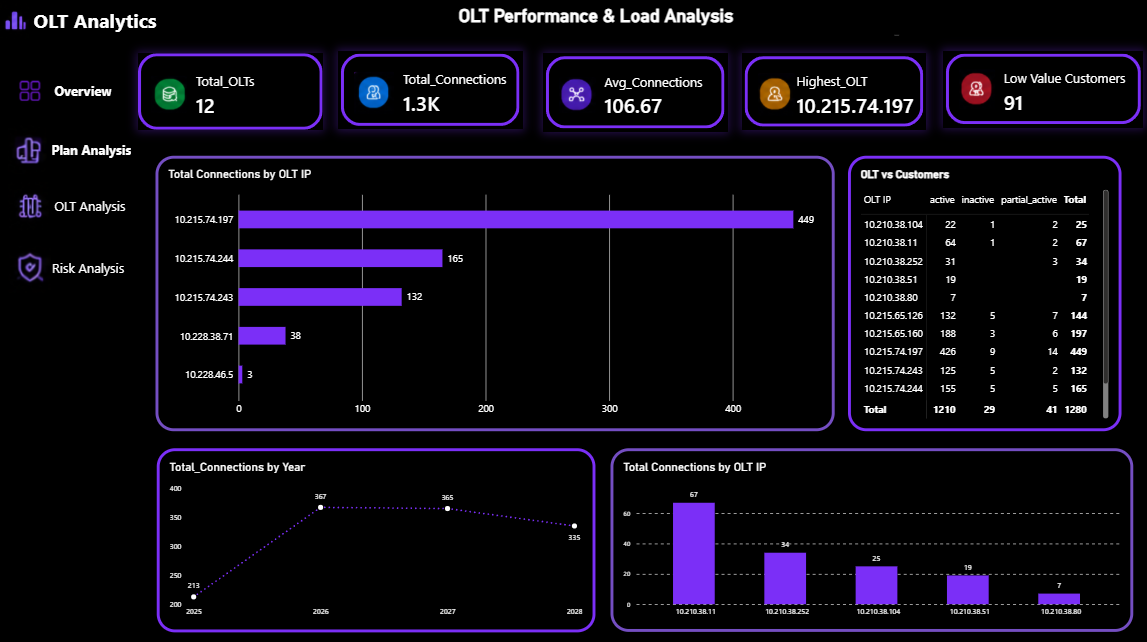

The page's visual inventory and layout, read from the dashboard file:
{"tool":"powerbi","page":{"name":"OLT Analysis ","canvas":[1920,1080],"ordinal":2},"visuals":[{"type":"shape","box":[0,0,269.4,1079.7],"z":0},{"type":"image","box":[8.6,0,51.3,74.8],"z":1000},{"type":"actionButton","box":[0,106.9,207.4,98.4],"z":2000},{"type":"actionButton","box":[0,201,239.5,100.5],"z":3000},{"type":"actionButton","box":[15,301.5,290.2,86.4],"z":4000},{"type":"actionButton","box":[17.1,406.2,211.7,81.2],"z":5000},{"type":"cardVisual","fields":{"Data":["OLT.Low Value Customers"]},"box":[1563.4,88.3,331.4,126.1],"z":6000},{"type":"cardVisual","fields":{"Data":["OLT.Total_OLTs"]},"box":[239.5,91.9,304.4,126.1],"z":7000},{"type":"cardVisual","fields":{"Data":["OLT.Total_Connections"]},"box":[567.4,88.3,304.4,129.7],"z":8000},{"type":"cardVisual","fields":{"Data":["OLT.Avg_Connections"]},"box":[906,91.9,304.4,129.7],"z":9000},{"type":"cardVisual","fields":{"Data":["OLT.Highest_OLT"]},"box":[1233.8,91.9,304.4,126.1],"z":10000},{"type":"clusteredBarChart","fields":{"Category":["OLT.OLT IP"],"Y":["OLT.Total Connections"]},"box":[268.4,261.2,1118.5,453.9],"z":11000},{"type":"pivotTable","title":"OLT vs Customers","fields":{"Columns":["OLT.status"],"Rows":["OLT.OLT IP"],"Values":["OLT.Total Connections"]},"box":[1408.5,261.2,450.3,453.9],"z":12000},{"type":"lineChart","fields":{"Category":["OLT.activation date.Variation.Date Hierarchy.Year","OLT.activation date.Variation.Date Hierarchy.Quarter","OLT.activation date.Variation.Date Hierarchy.Month","OLT.activation date.Variation.Date Hierarchy.Day"],"Y":["OLT.Total_Connections"]},"box":[270.2,742.1,722,303],"z":13000},{"type":"columnChart","fields":{"Category":["OLT.OLT IP"],"Y":["OLT.Total Connections"]},"box":[1015.8,742.1,860.9,302.6],"z":14000},{"type":"textbox","title":"OLT Performance & Load Analysis","box":[493.9,12.8,998.5,51.3],"z":15000}]}

Visuals, with their boxes in screenshot pixels (x1, y1, x2, y2):
shape: {"left": 0, "top": 0, "right": 155, "bottom": 641}
image: {"left": 0, "top": 0, "right": 27, "bottom": 40}
actionButton: {"left": 0, "top": 59, "right": 117, "bottom": 119}
actionButton: {"left": 0, "top": 116, "right": 137, "bottom": 177}
actionButton: {"left": 0, "top": 177, "right": 177, "bottom": 230}
actionButton: {"left": 1, "top": 241, "right": 130, "bottom": 290}
cardVisual - OLT.Low Value Customers: {"left": 942, "top": 48, "right": 1143, "bottom": 124}
cardVisual - OLT.Total_OLTs: {"left": 137, "top": 50, "right": 322, "bottom": 127}
cardVisual - OLT.Total_Connections: {"left": 336, "top": 48, "right": 521, "bottom": 127}
cardVisual - OLT.Avg_Connections: {"left": 542, "top": 50, "right": 727, "bottom": 129}
cardVisual - OLT.Highest_OLT: {"left": 741, "top": 50, "right": 926, "bottom": 127}
clusteredBarChart - OLT.OLT IP x OLT.Total Connections: {"left": 154, "top": 153, "right": 834, "bottom": 429}
"OLT vs Customers" pivotTable: {"left": 847, "top": 153, "right": 1121, "bottom": 429}
lineChart - OLT.activation date.Variation.Date Hierarchy.Year x OLT.activation date.Variation.Date Hierarchy.Quarter: {"left": 155, "top": 445, "right": 594, "bottom": 629}
columnChart - OLT.OLT IP x OLT.Total Connections: {"left": 609, "top": 445, "right": 1132, "bottom": 629}
"OLT Performance & Load Analysis" textbox: {"left": 291, "top": 2, "right": 898, "bottom": 33}
